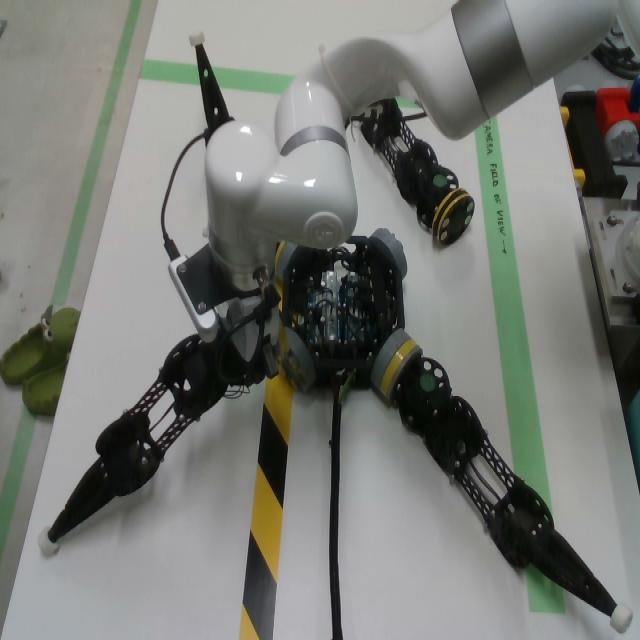body: (282, 236, 405, 388)
body_connector: (370, 329, 411, 391), (281, 327, 316, 393), (369, 228, 408, 280), (277, 241, 303, 280)
gripper: (220, 285, 281, 385)
leg: (380, 337, 634, 633), (36, 325, 253, 557), (352, 99, 474, 245), (188, 29, 233, 137)
leg_connector: (380, 340, 423, 401), (433, 189, 475, 244), (275, 240, 284, 264)
leg_marker: (420, 375, 435, 391), (433, 175, 447, 187)
